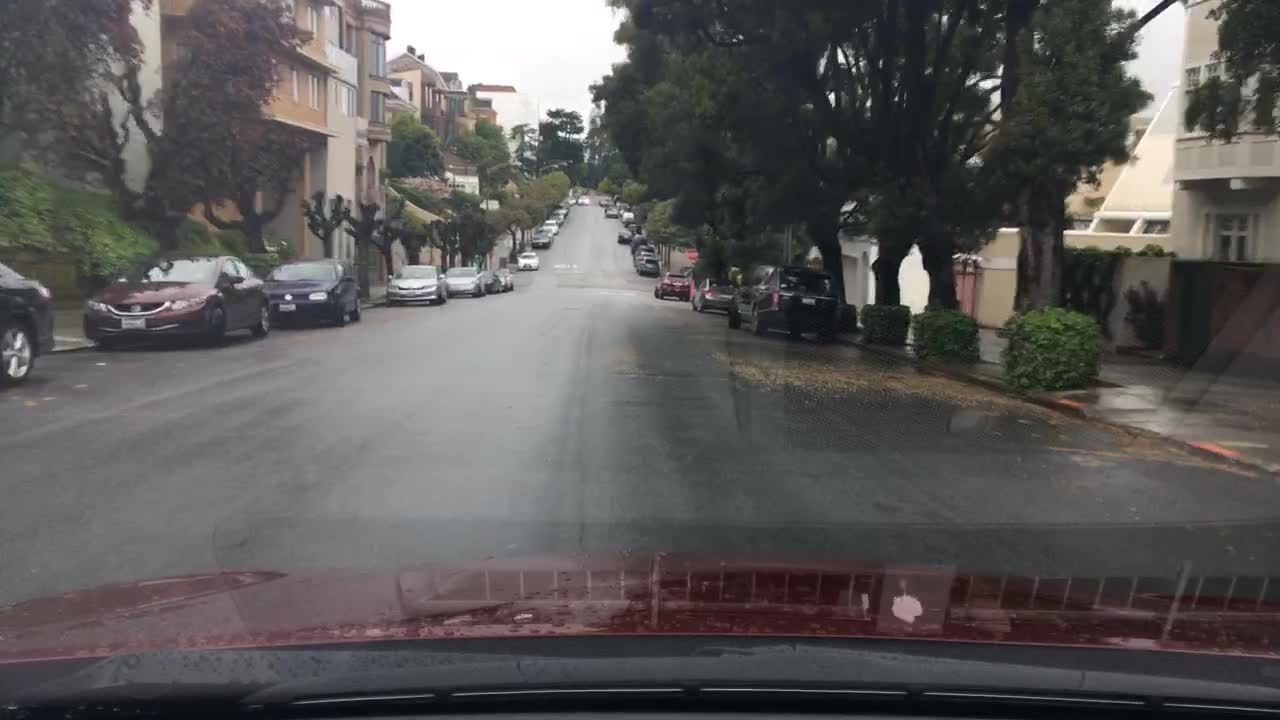car: (81, 253, 267, 350), (727, 262, 841, 340), (264, 258, 360, 327), (0, 264, 54, 383), (386, 262, 446, 304), (690, 276, 741, 315), (443, 264, 482, 297), (652, 273, 692, 301), (477, 268, 498, 293), (632, 244, 657, 264), (530, 227, 555, 247), (517, 249, 540, 270), (627, 235, 649, 253), (635, 259, 658, 276), (498, 267, 515, 289), (490, 268, 506, 291), (537, 219, 559, 234), (547, 212, 566, 224), (617, 229, 634, 241), (550, 209, 569, 219), (598, 195, 615, 206), (620, 210, 635, 222), (576, 193, 591, 205), (628, 222, 643, 233), (614, 202, 631, 211), (603, 208, 619, 216), (611, 191, 623, 201), (556, 199, 570, 207), (566, 195, 576, 205)
